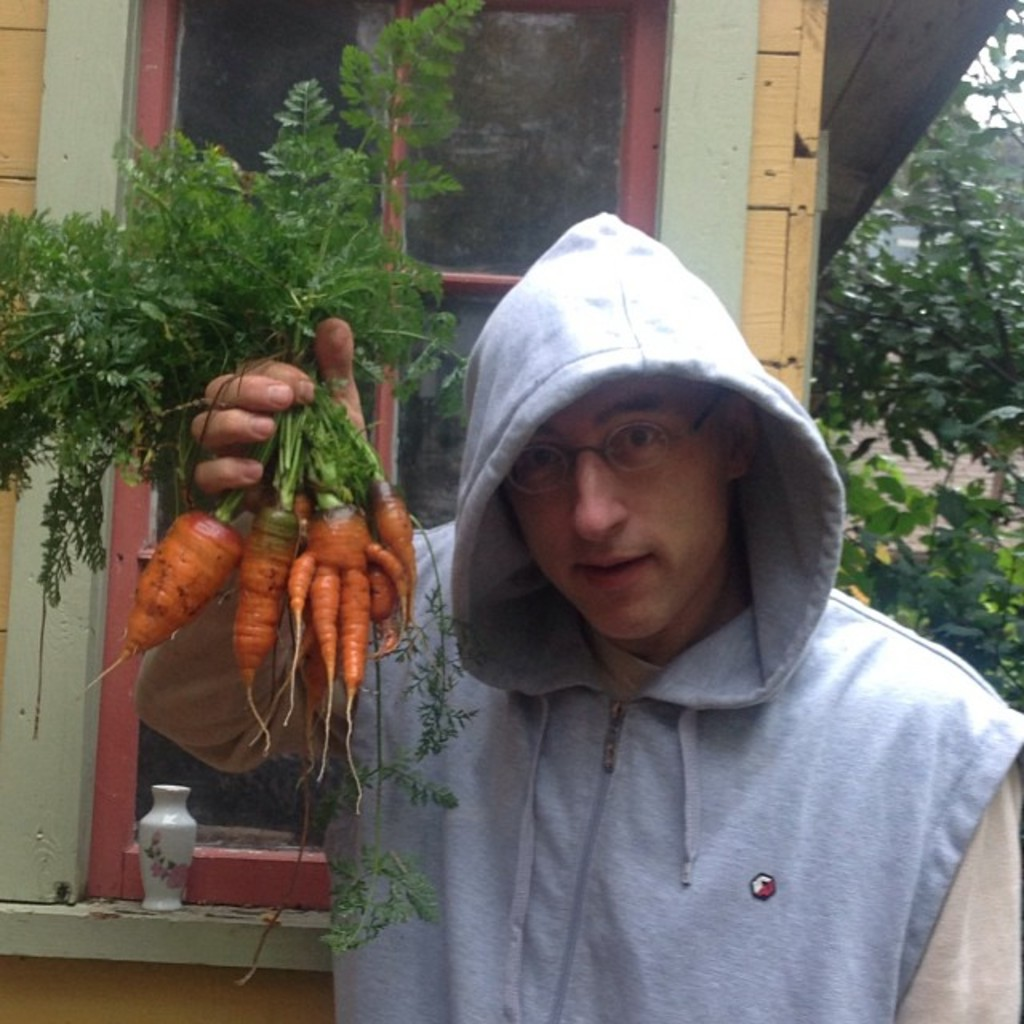Carrot: (231, 467, 416, 814), (75, 505, 244, 702)
